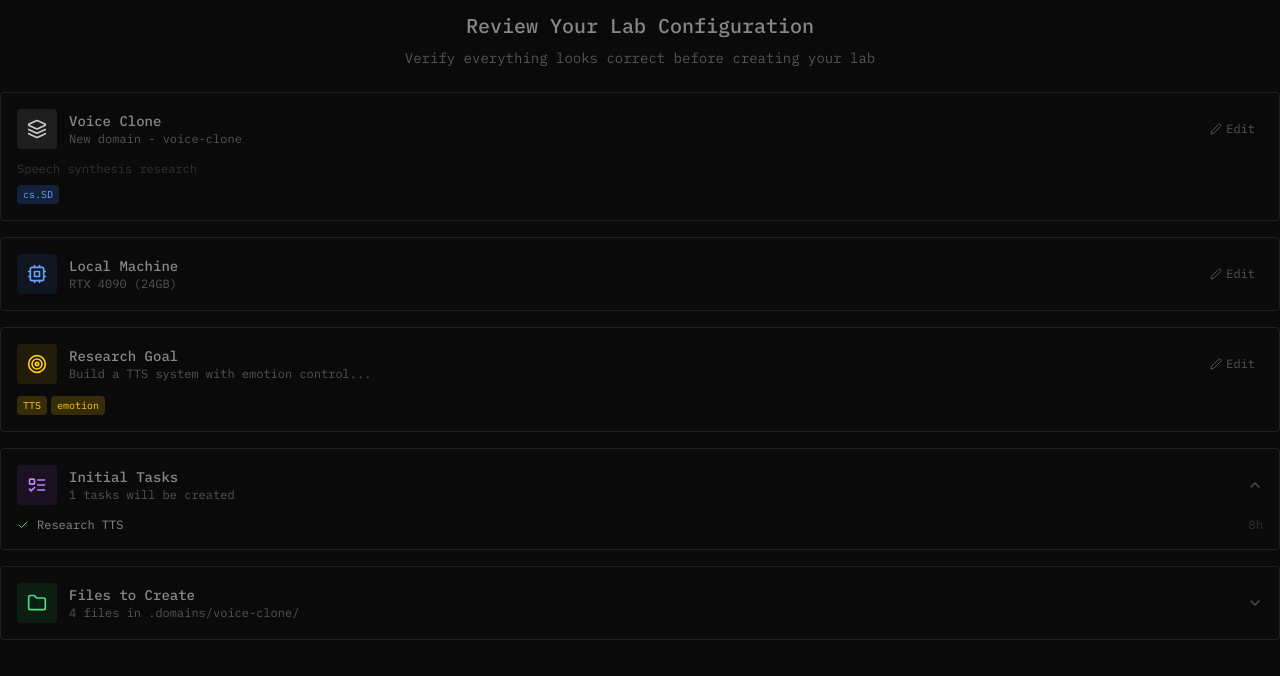
Test: WizardStepReview › files section › files section is expandable
Click the button "Files to Create": (37, 603) [17,583,1263,623]
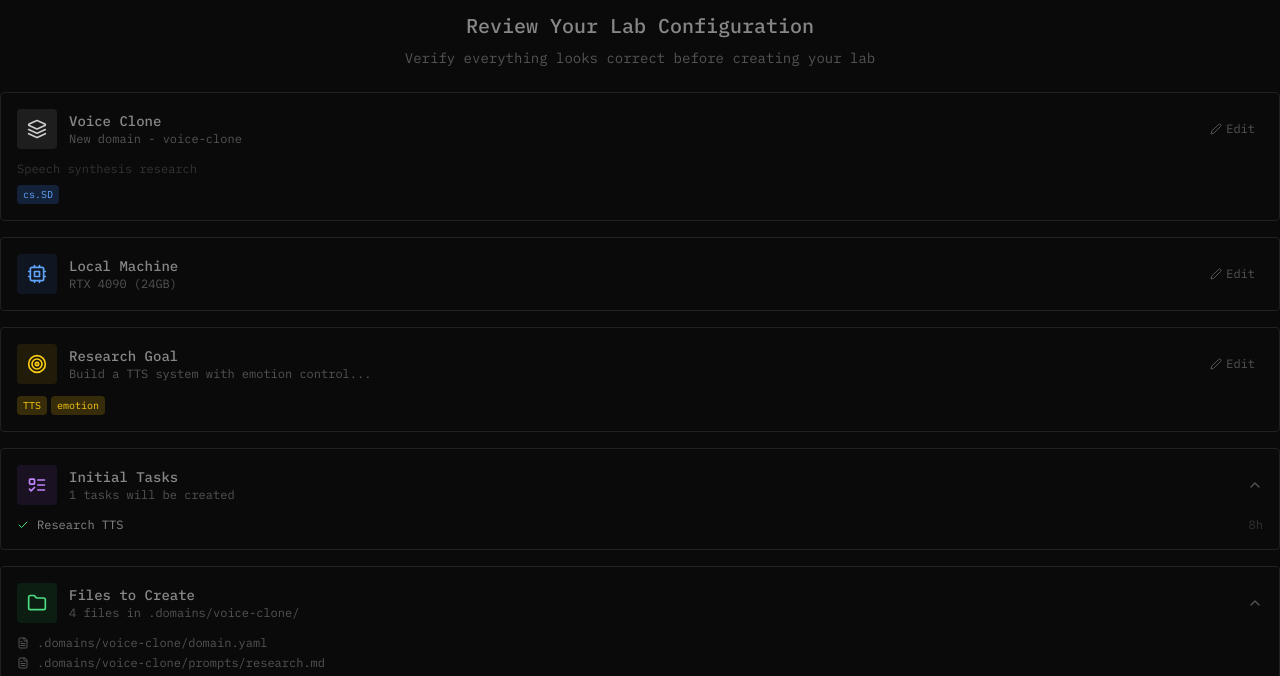
Check: the text ".domains/voice-clone/domain.yaml" is shown, box [17,635,267,650]
